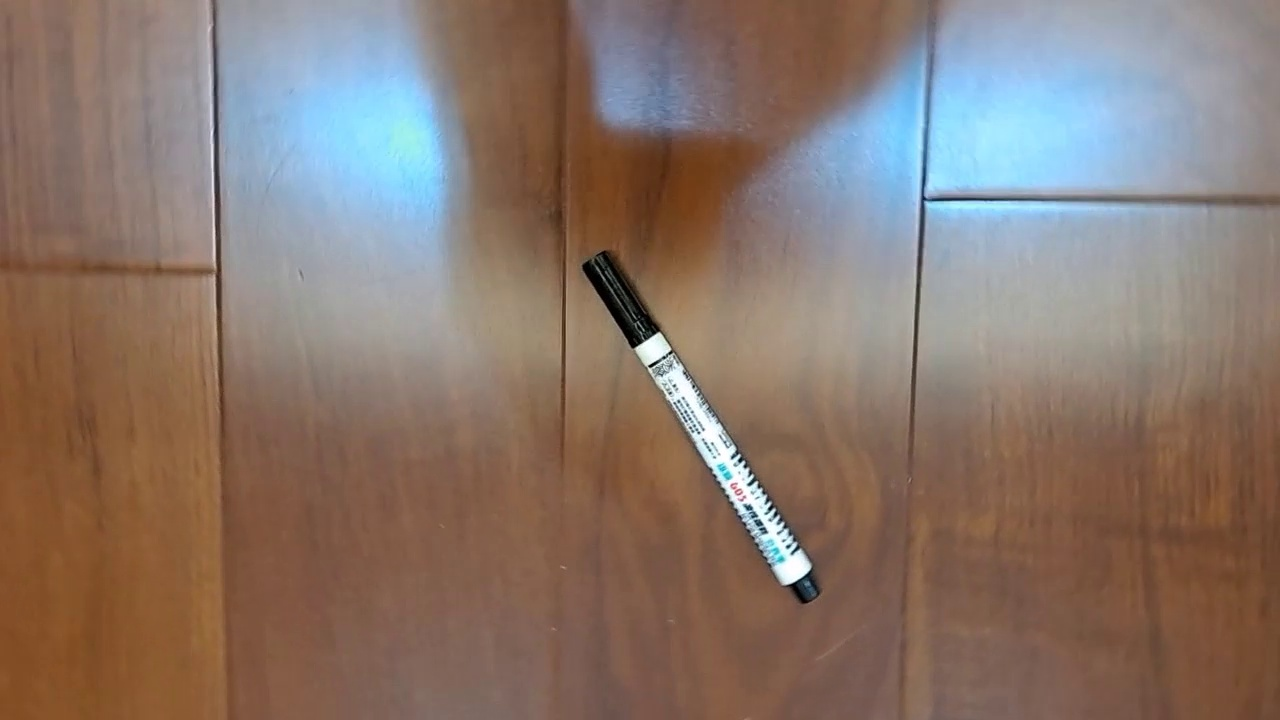pen: (580, 248, 824, 606)
